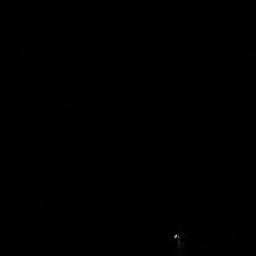ship: (173, 232, 185, 256)
